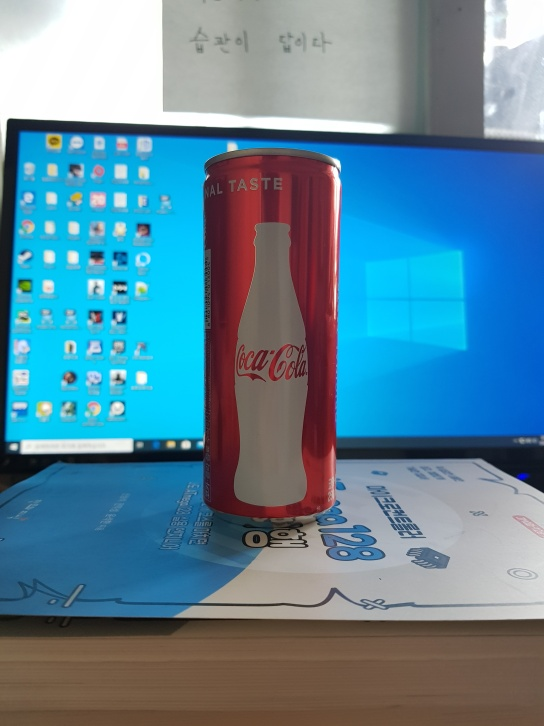Can: (199, 145, 342, 531)
